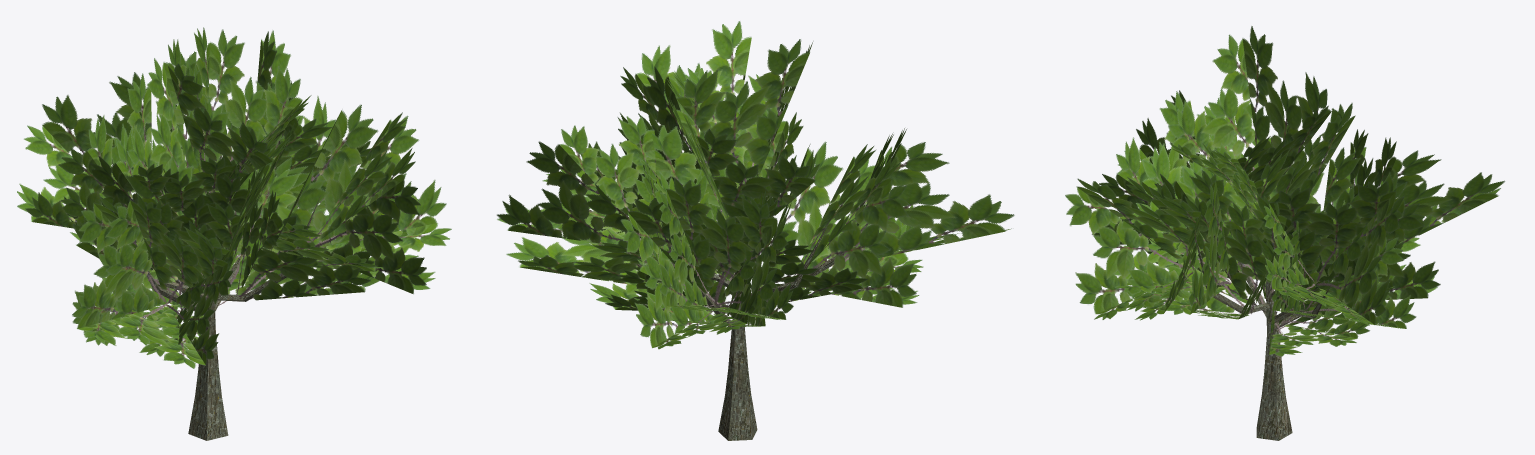
File: tree_4.glb
The picture shows the model from 3 angles, left to right: view 1: azimuth 30°, elevation 25°; view 2: azimuth 150°, elevation 25°; view 3: azimuth 270°, elevation 25°; orthographic projection. The views are drawn at different scales.
Visible parts, largest first — view 1: tree_4; view 2: tree_4; view 3: tree_4.
Boxes of the visible parts, x1=… form: tree_4: x1=17, y1=27, x2=451, y2=440; tree_4: x1=496, y1=21, x2=1014, y2=440; tree_4: x1=1065, y1=26, x2=1504, y2=440.
Size of what is drawn, in the model's own units: 8.55 by 8.03 by 8.63.
2 materials, 2 textured.
